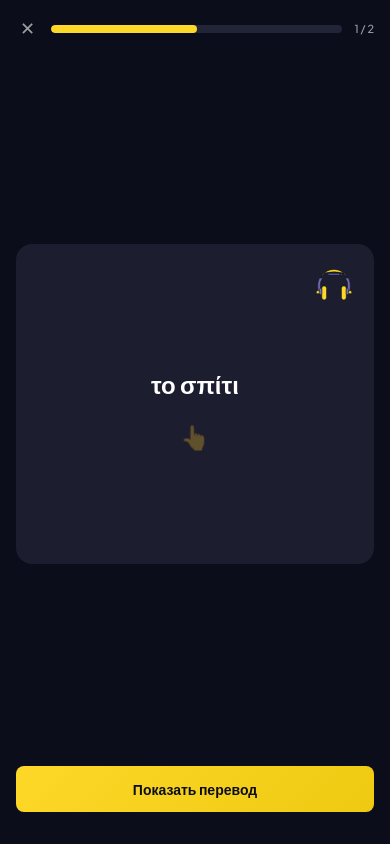
Scenario: FlashcardScreen › shows completion screen after last card
Check: the text "το σπίτι" is shown, box [151,370,239,398]
Click the button "Показать перевод": [195, 789] box [16,766,374,812]
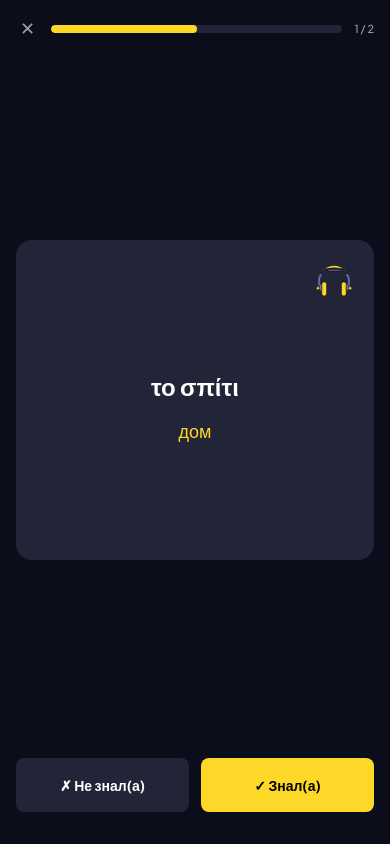
Click the button "✓ Знал(а)": [288, 785] box [201,758,374,812]
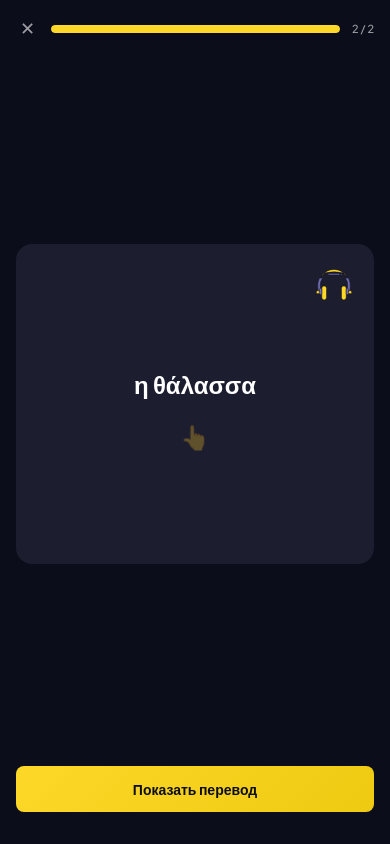
Check: the text "η θάλασσα" is shown, box [134,370,256,398]
Click the button "Показать перевод": [195, 789] box [16,766,374,812]
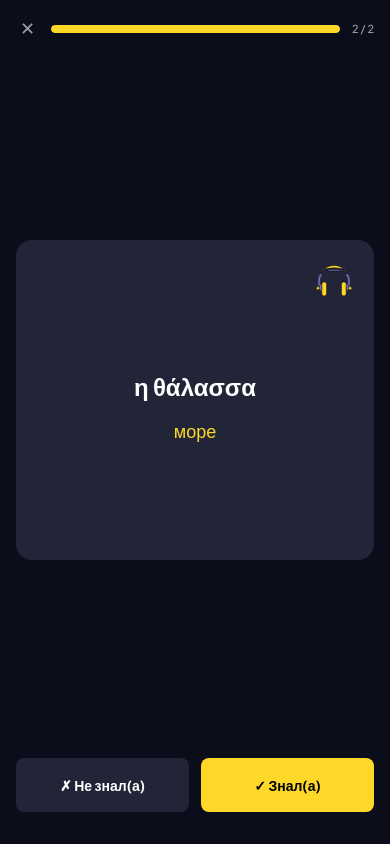
Click the button "✓ Знал(а)": [288, 785] box [201,758,374,812]
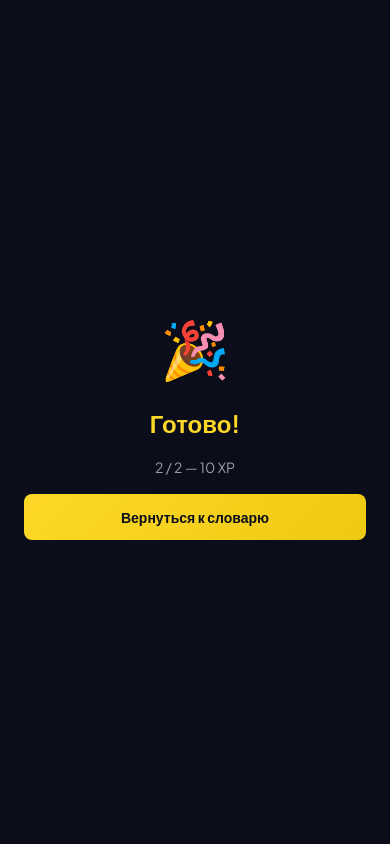
Check: the heading "Готово!" is shown, box [150,404,240,440]
